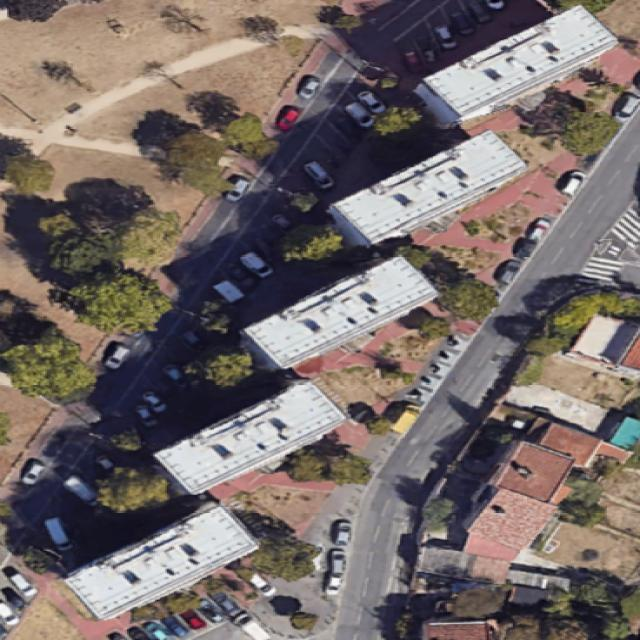immeuble: (327, 121, 530, 259), (410, 0, 622, 132), (59, 493, 262, 628), (148, 370, 353, 503), (239, 248, 440, 378)
